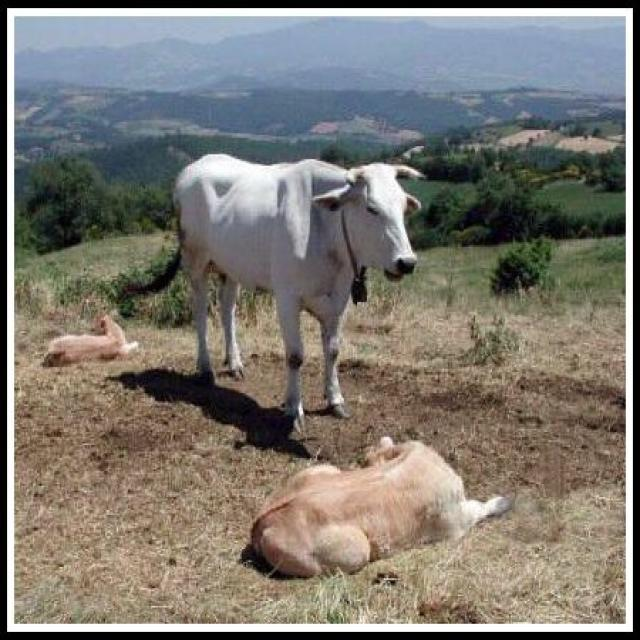cow: (124, 149, 425, 424), (241, 432, 524, 580), (41, 311, 134, 366)
